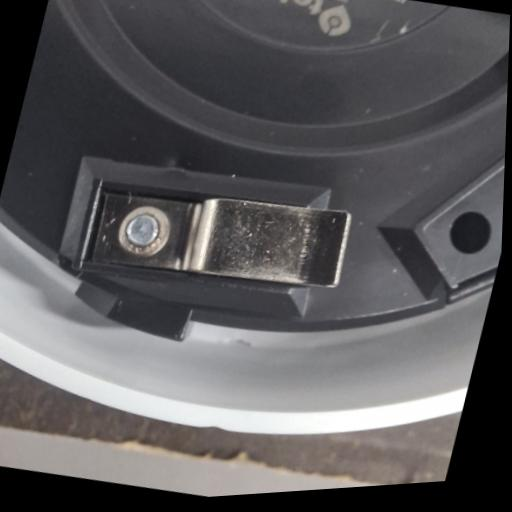yaysiz: (72, 154, 354, 316)
